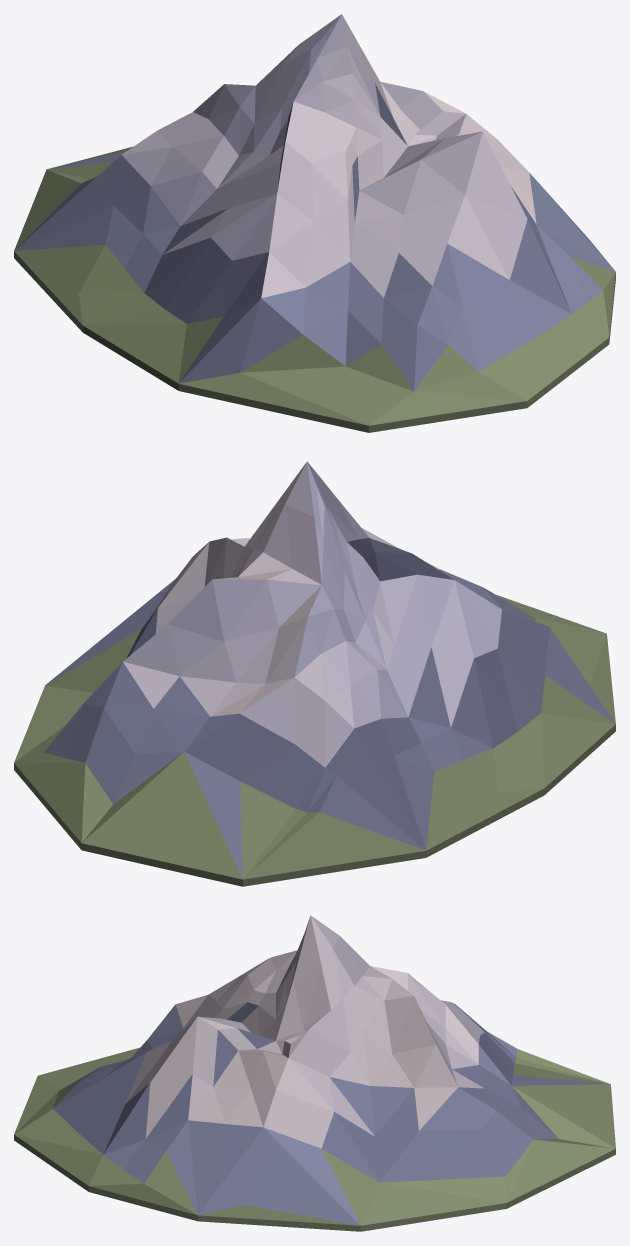
The model's file is massif_east_summit.glb.
3 renders of one model, top to bottom at view 1: azimuth 30°, elevation 25°; view 2: azimuth 150°, elevation 25°; view 3: azimuth 270°, elevation 25°, orthographic. The views are drawn at different scales.
Visible parts, largest first — view 1: massif_east_summit; view 2: massif_east_summit; view 3: massif_east_summit.
Part boxes in pixels (left/top/right/bottom): massif_east_summit: left=14, top=14, right=615, bottom=432; massif_east_summit: left=14, top=461, right=615, bottom=886; massif_east_summit: left=14, top=915, right=615, bottom=1231.
Bounding box in the file's own units: 590 × 312 × 766.
